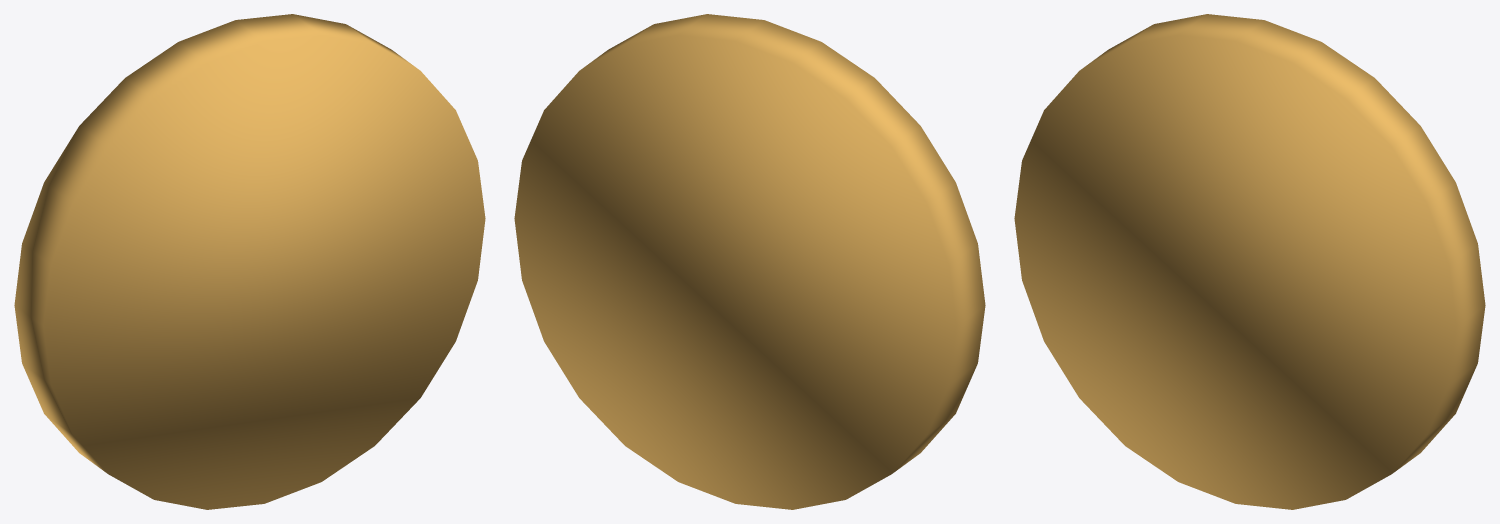
File: coin.glb
3 renders of one model, left to right at view 1: azimuth 30°, elevation 25°; view 2: azimuth 150°, elevation 25°; view 3: azimuth 330°, elevation 25°, orthographic.
Parts seen in each view (by area): view 1: Coin; view 2: Coin; view 3: Coin.
Part boxes in pixels (<box>): Coin: <box>14,14,485,509</box>; Coin: <box>514,14,985,509</box>; Coin: <box>1014,14,1485,509</box>.
Bounding box in the file's own units: 0.22 × 0.22 × 0.025.
